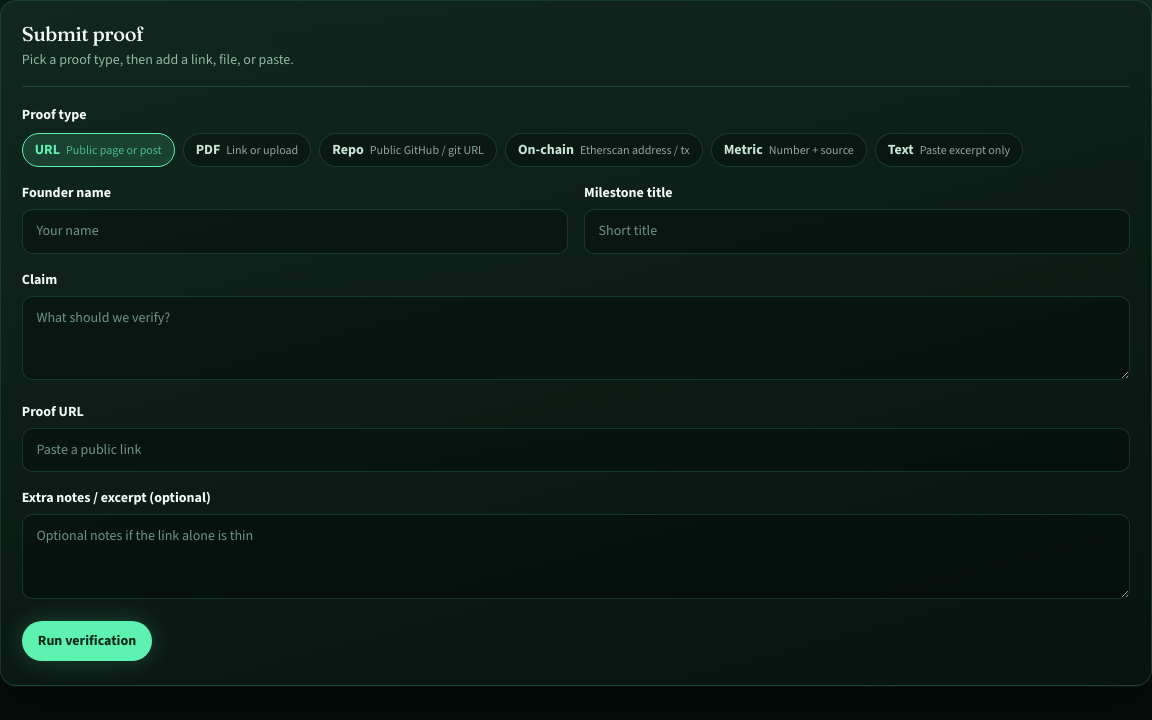
Test case: MilestoneSubmitForm › blocks invalid proof URL
This screenshot has width=1152, height=720.
Type "Ada" into the field named "founderName" at (295, 231), box [22, 209, 568, 254]
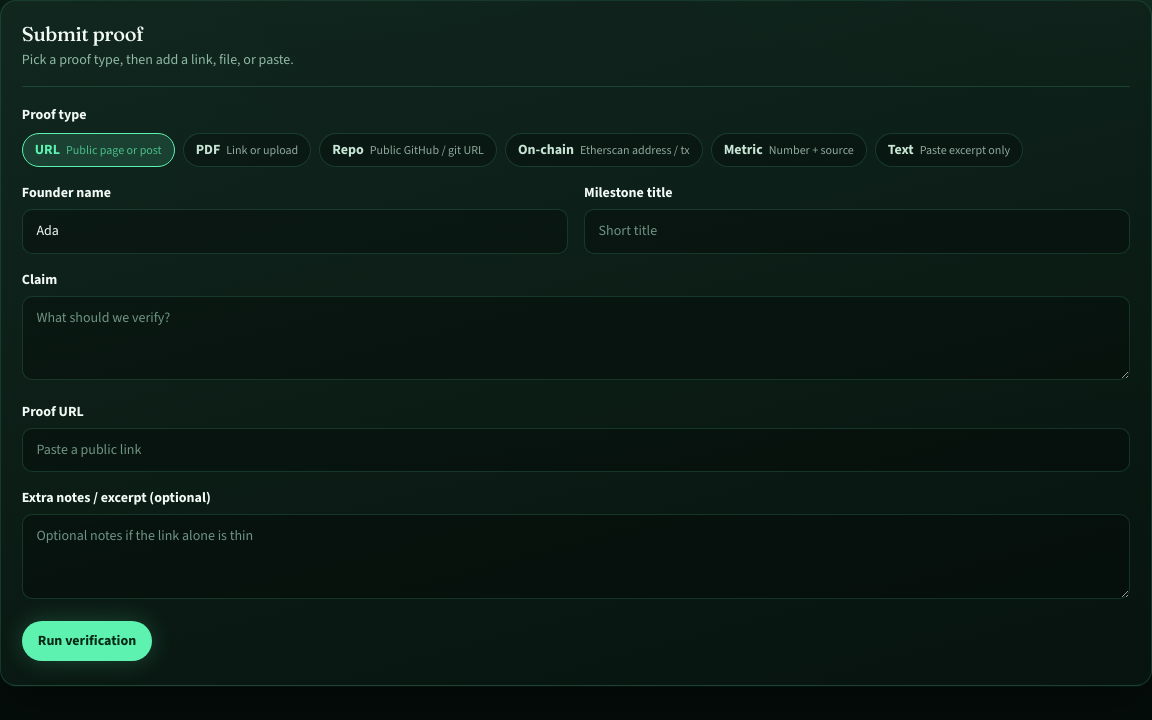
Type "Site live" into the field named "title" at (857, 231), box [584, 209, 1130, 254]
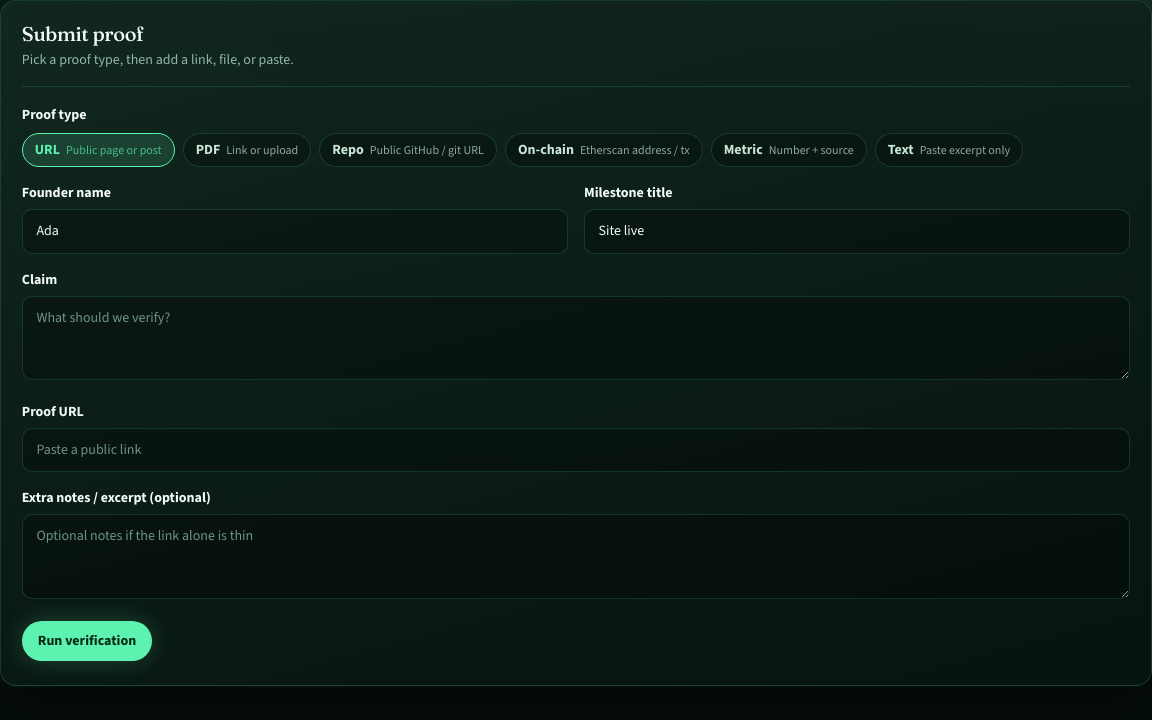
Type "Site should be live now" into the text box named "claim" at (576, 338), box [22, 296, 1130, 380]
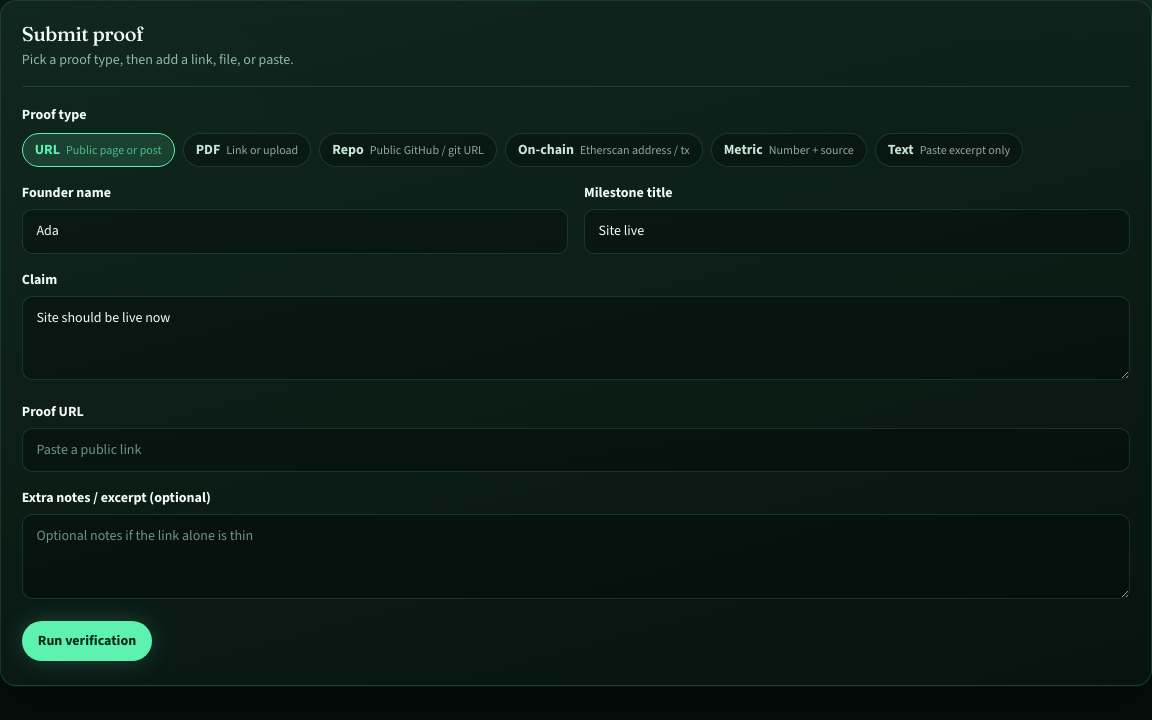
Type "not-a-url" into the field named "proofUrl" at (576, 450), box [22, 428, 1130, 472]
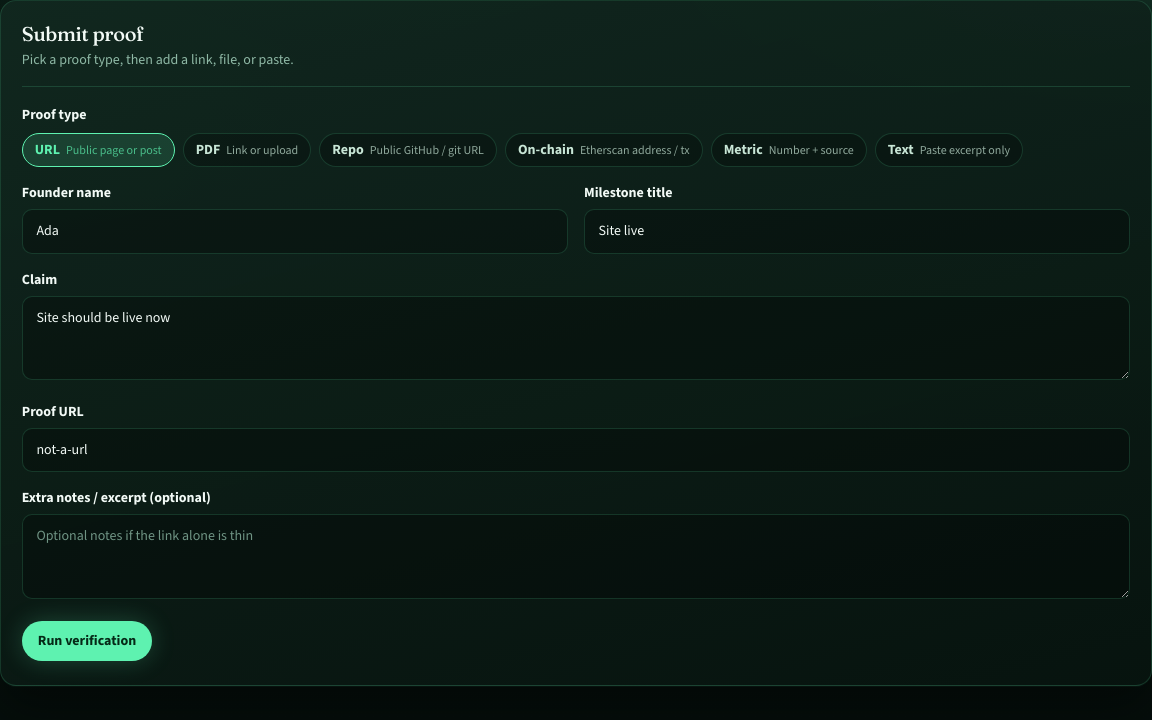
Submit the form
(page scrolled)
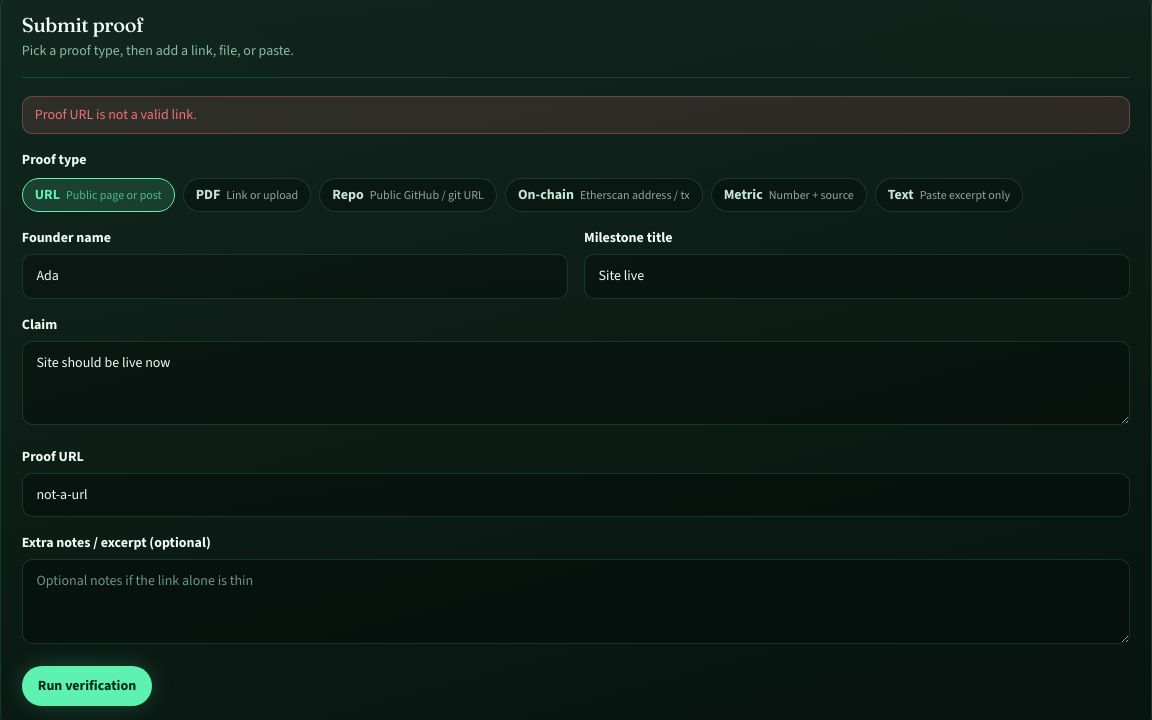
Expected: the form shows "Proof URL is not a valid link.", [35, 105, 197, 124]
